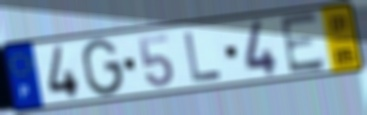4: (242, 18, 280, 80), (47, 43, 82, 102)
5: (136, 32, 176, 88)
E: (277, 10, 329, 77)
G: (80, 37, 126, 98)
L: (182, 30, 225, 83)
